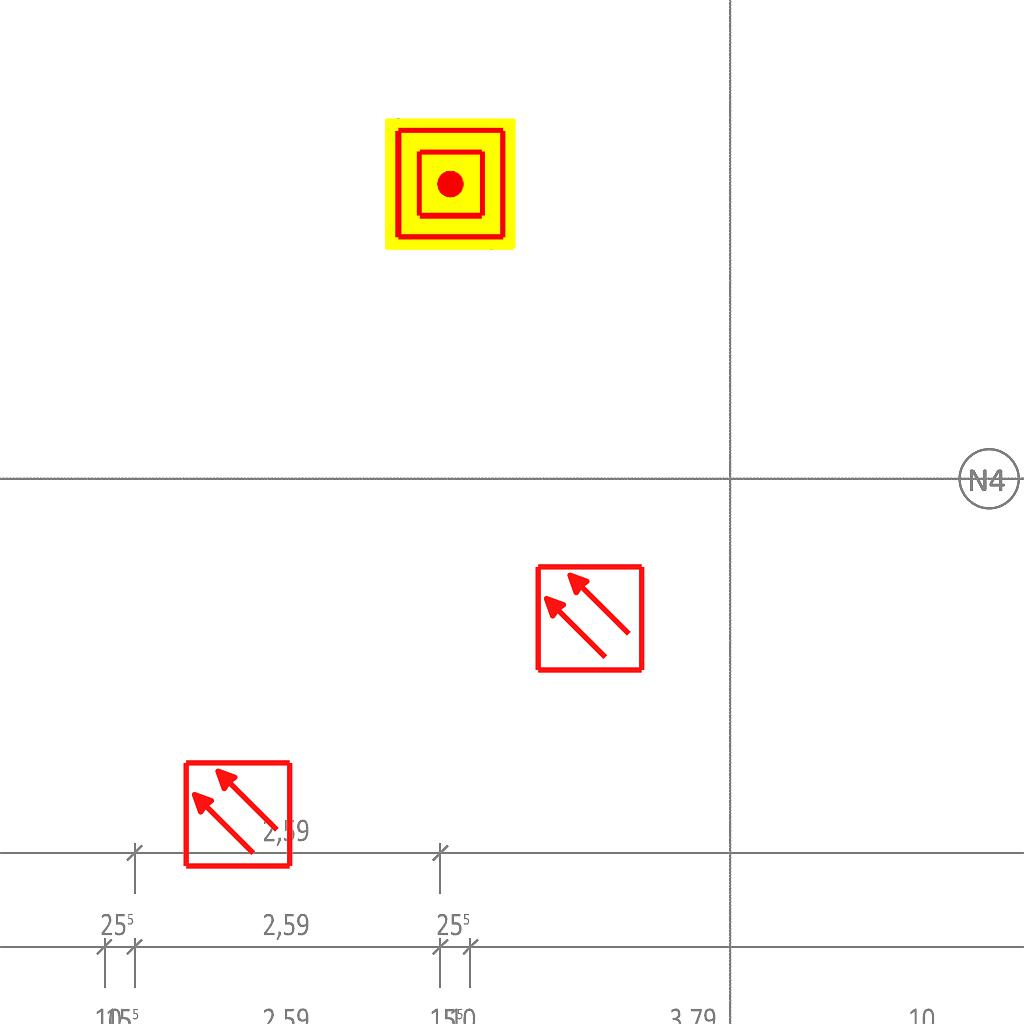NAM-Nichtautomatischer_Melder: (384, 118, 516, 250)
RMO_Rauchmelder_optischer: (533, 562, 646, 675), (181, 758, 294, 871)
